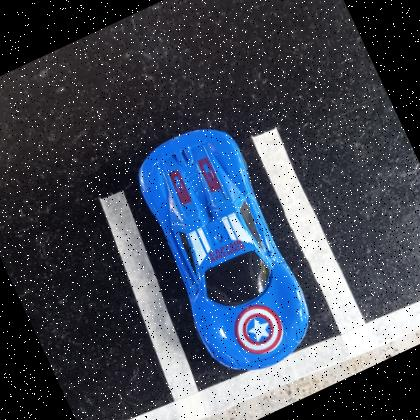Car: (139, 129, 311, 372)
